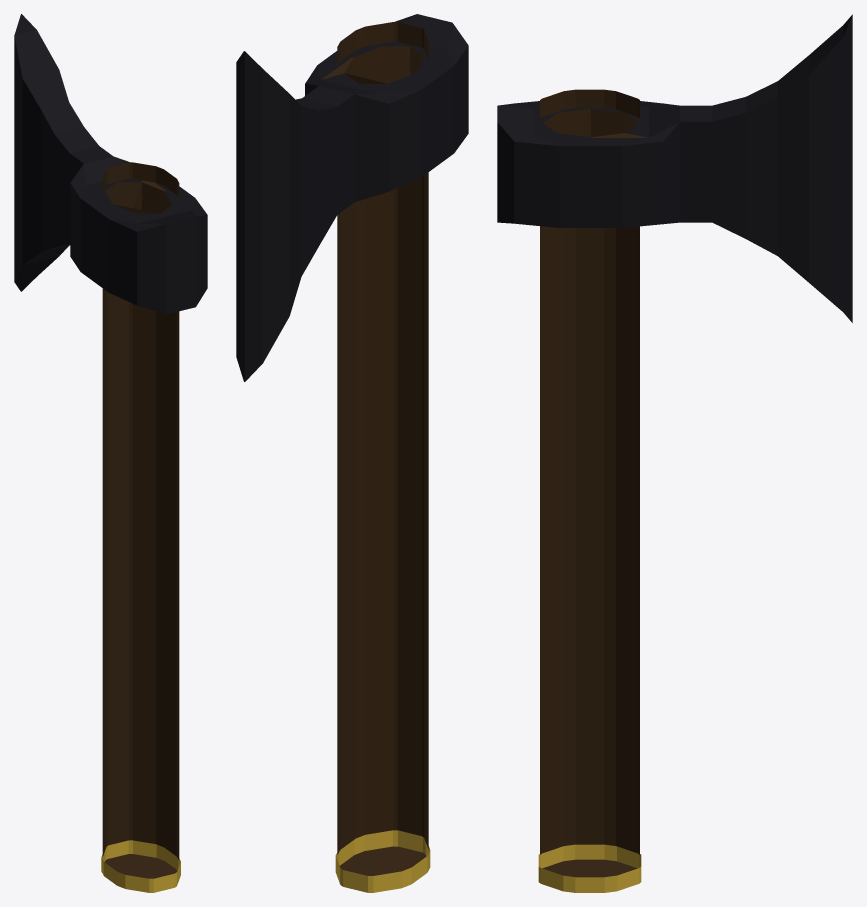
File: axe.fbx
The picture shows the model from 3 angles, left to right: view 1: azimuth 30°, elevation 25°; view 2: azimuth 150°, elevation 25°; view 3: azimuth 270°, elevation 25°; orthographic projection. The views are drawn at different scales.
Parts seen in each view (by area): view 1: Cube; view 2: Cube; view 3: Cube.
Boxes of the visible parts, <box> form: Cube: <box>14,14,207,892</box>; Cube: <box>236,14,468,892</box>; Cube: <box>497,14,852,892</box>.
Bounding box in the file's own units: 246 × 2101 × 786.
